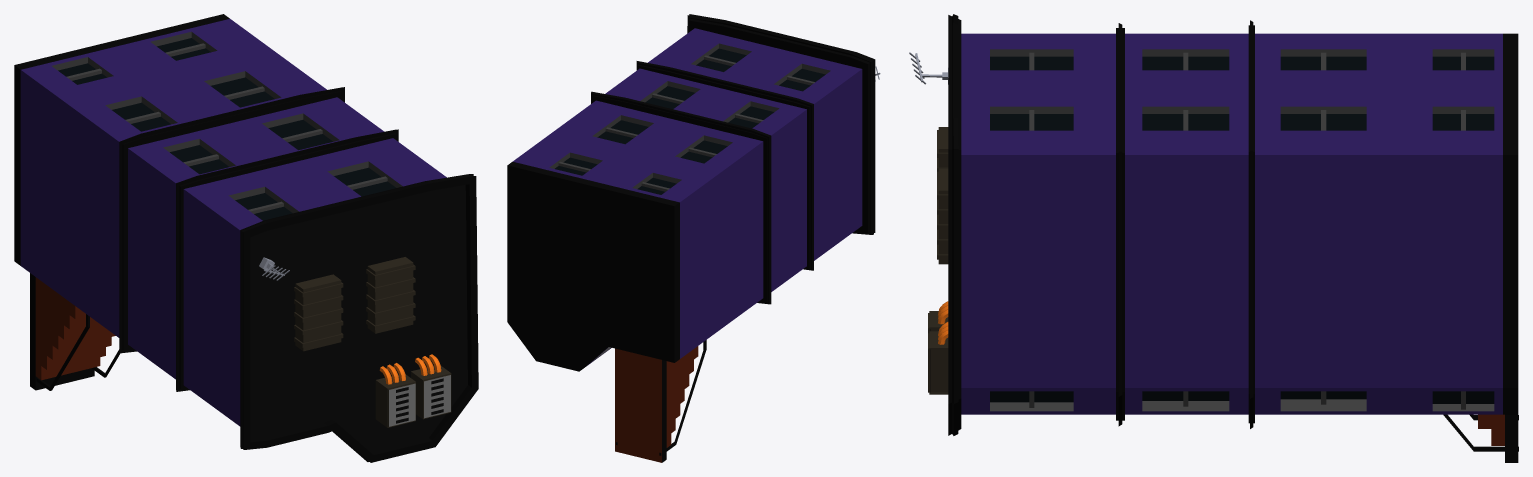
The model's file is bada building.obj.
The picture shows the model from 3 angles, left to right: view 1: azimuth 30°, elevation 25°; view 2: azimuth 150°, elevation 25°; view 3: azimuth 270°, elevation 25°; orthographic projection. The views are drawn at different scales.
Visible parts, largest first — view 1: Cube.018; view 2: Cube.018; view 3: Cube.018.
Boxes of the visible parts, left/top/right/bottom form: Cube.018: left=14, top=14, right=478, bottom=462; Cube.018: left=507, top=14, right=880, bottom=462; Cube.018: left=909, top=14, right=1518, bottom=462.
Bounding box in the file's own units: 0.3276 × 0.4523 × 0.6187.
